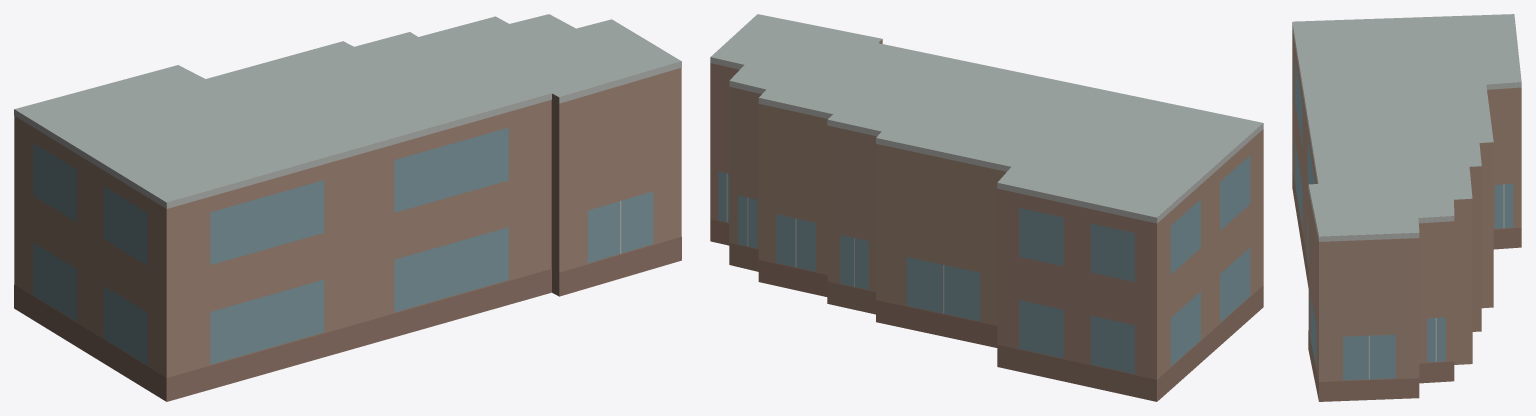
The model's file is survey-upis-32754455.glb.
3 renders of one model, left to right at view 1: azimuth 30°, elevation 25°; view 2: azimuth 150°, elevation 25°; view 3: azimuth 270°, elevation 25°, orthographic. The views are drawn at different scales.
Parts seen in each view (by area): view 1: survey-upis-32754455.tmp; view 2: survey-upis-32754455.tmp; view 3: survey-upis-32754455.tmp.
Boxes of the visible parts, box(x1,y1,x2,y2) form: survey-upis-32754455.tmp: box(14, 14, 681, 401); survey-upis-32754455.tmp: box(710, 14, 1263, 401); survey-upis-32754455.tmp: box(1292, 14, 1521, 401).
Bounding box in the file's own units: 21.96 × 7.6 × 9.57.
